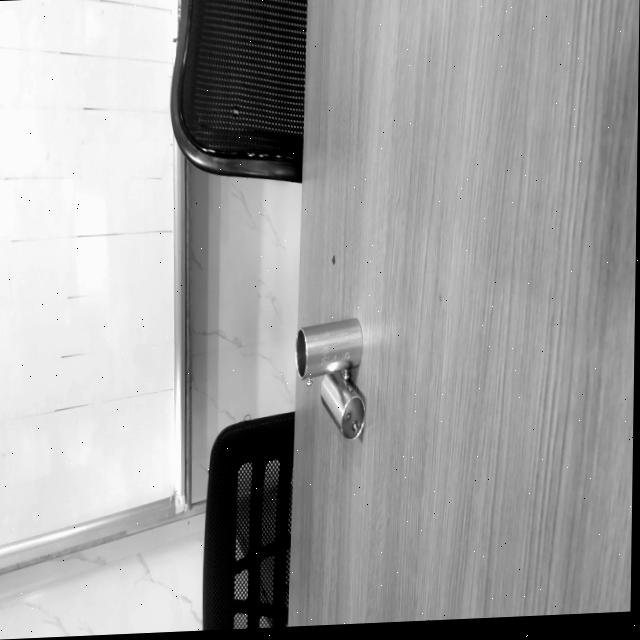Co_Lon: (290, 316, 369, 379)
Co_Nho: (311, 363, 379, 443)
